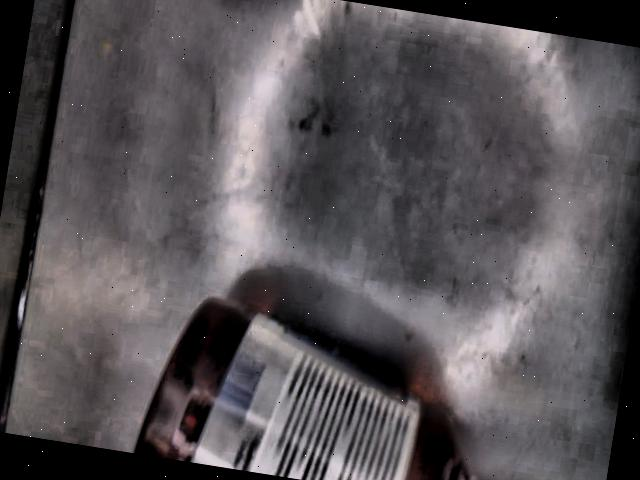Bottles: (129, 297, 477, 480)
